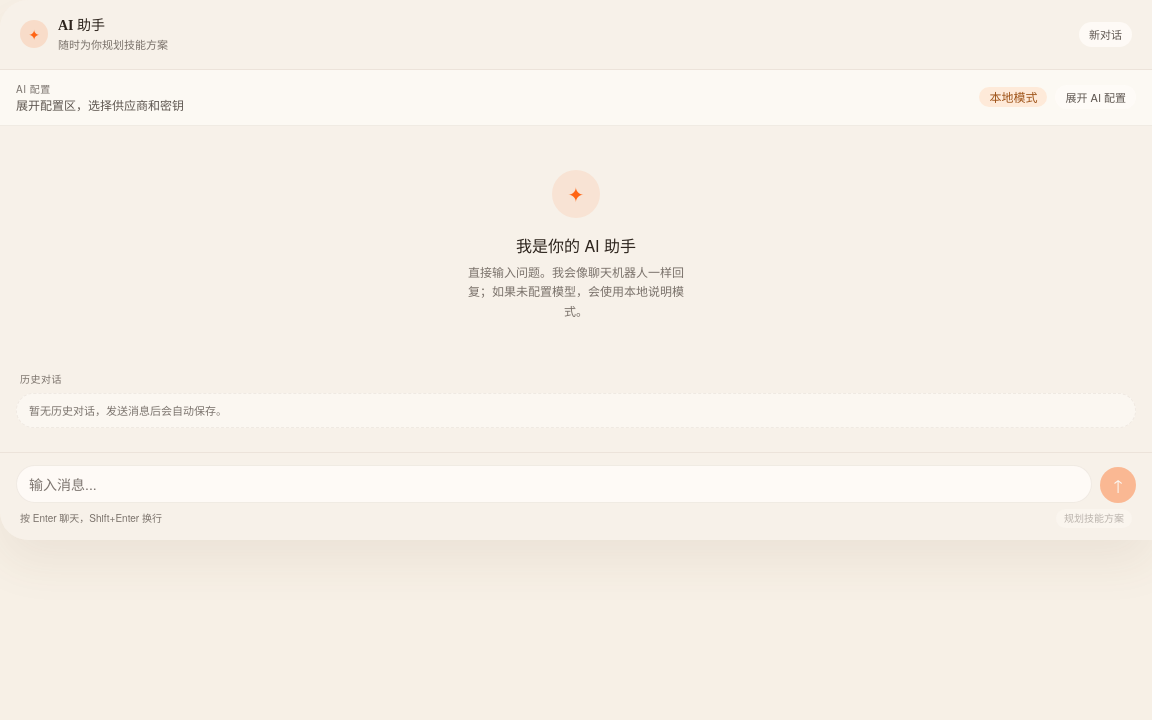
AssistantPanel › sends regular messages through the chat API by default
Type "你好" into the text box with placeholder "输入消息..." at (554, 484), box [16,464,1092,502]
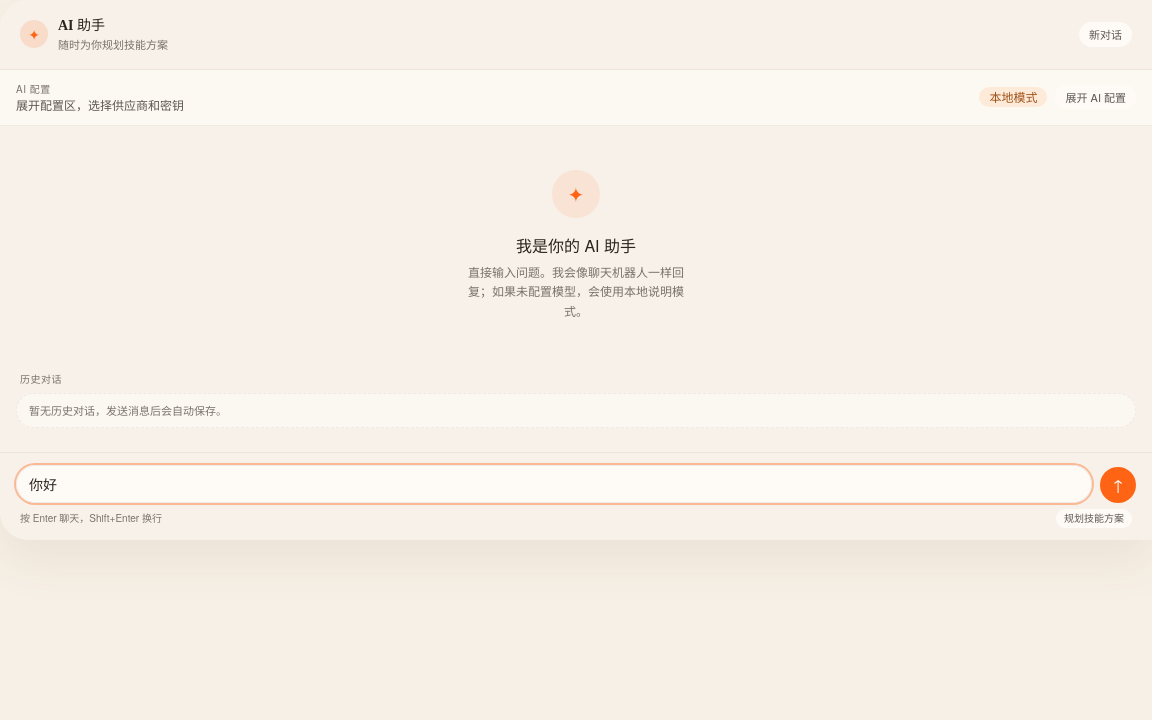
Click the button titled "发送" at (1118, 484), box [1100,466,1136,502]
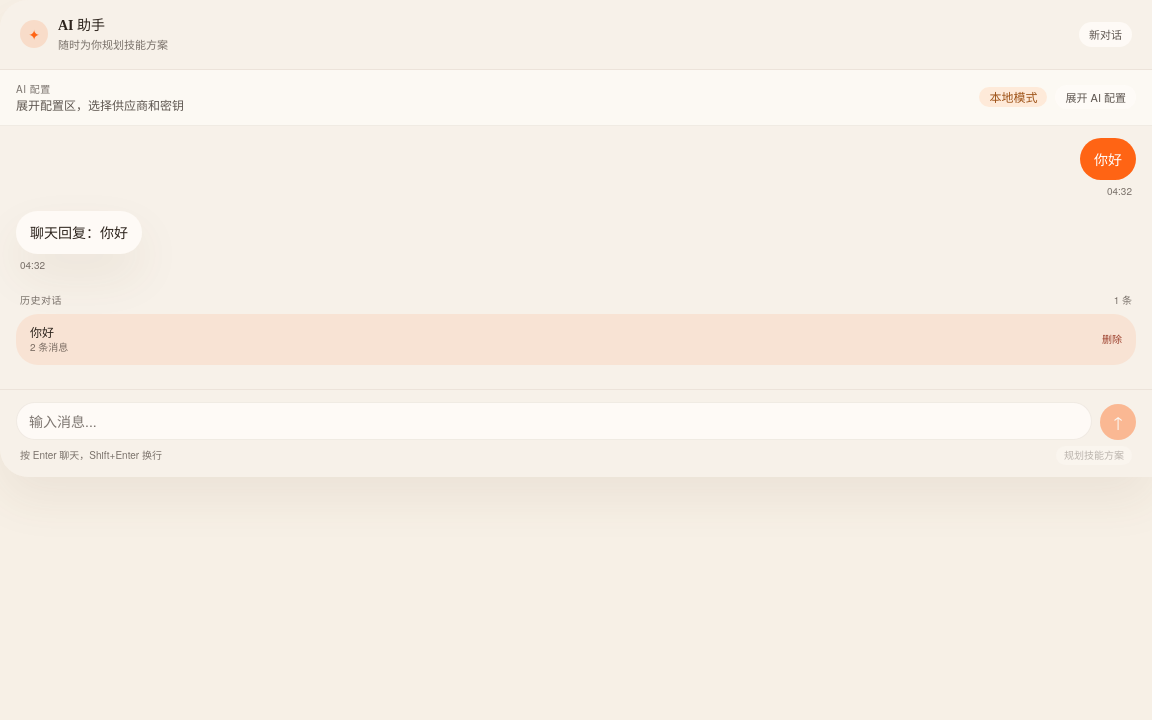
Now the text "聊天回复：你好" is shown, box [16,211,142,254]
